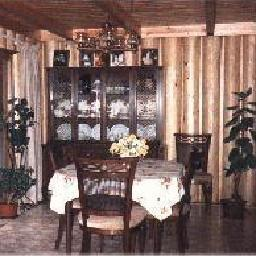Cama: (71, 155, 148, 250)
Matera: (221, 88, 254, 219), (4, 100, 28, 219)
